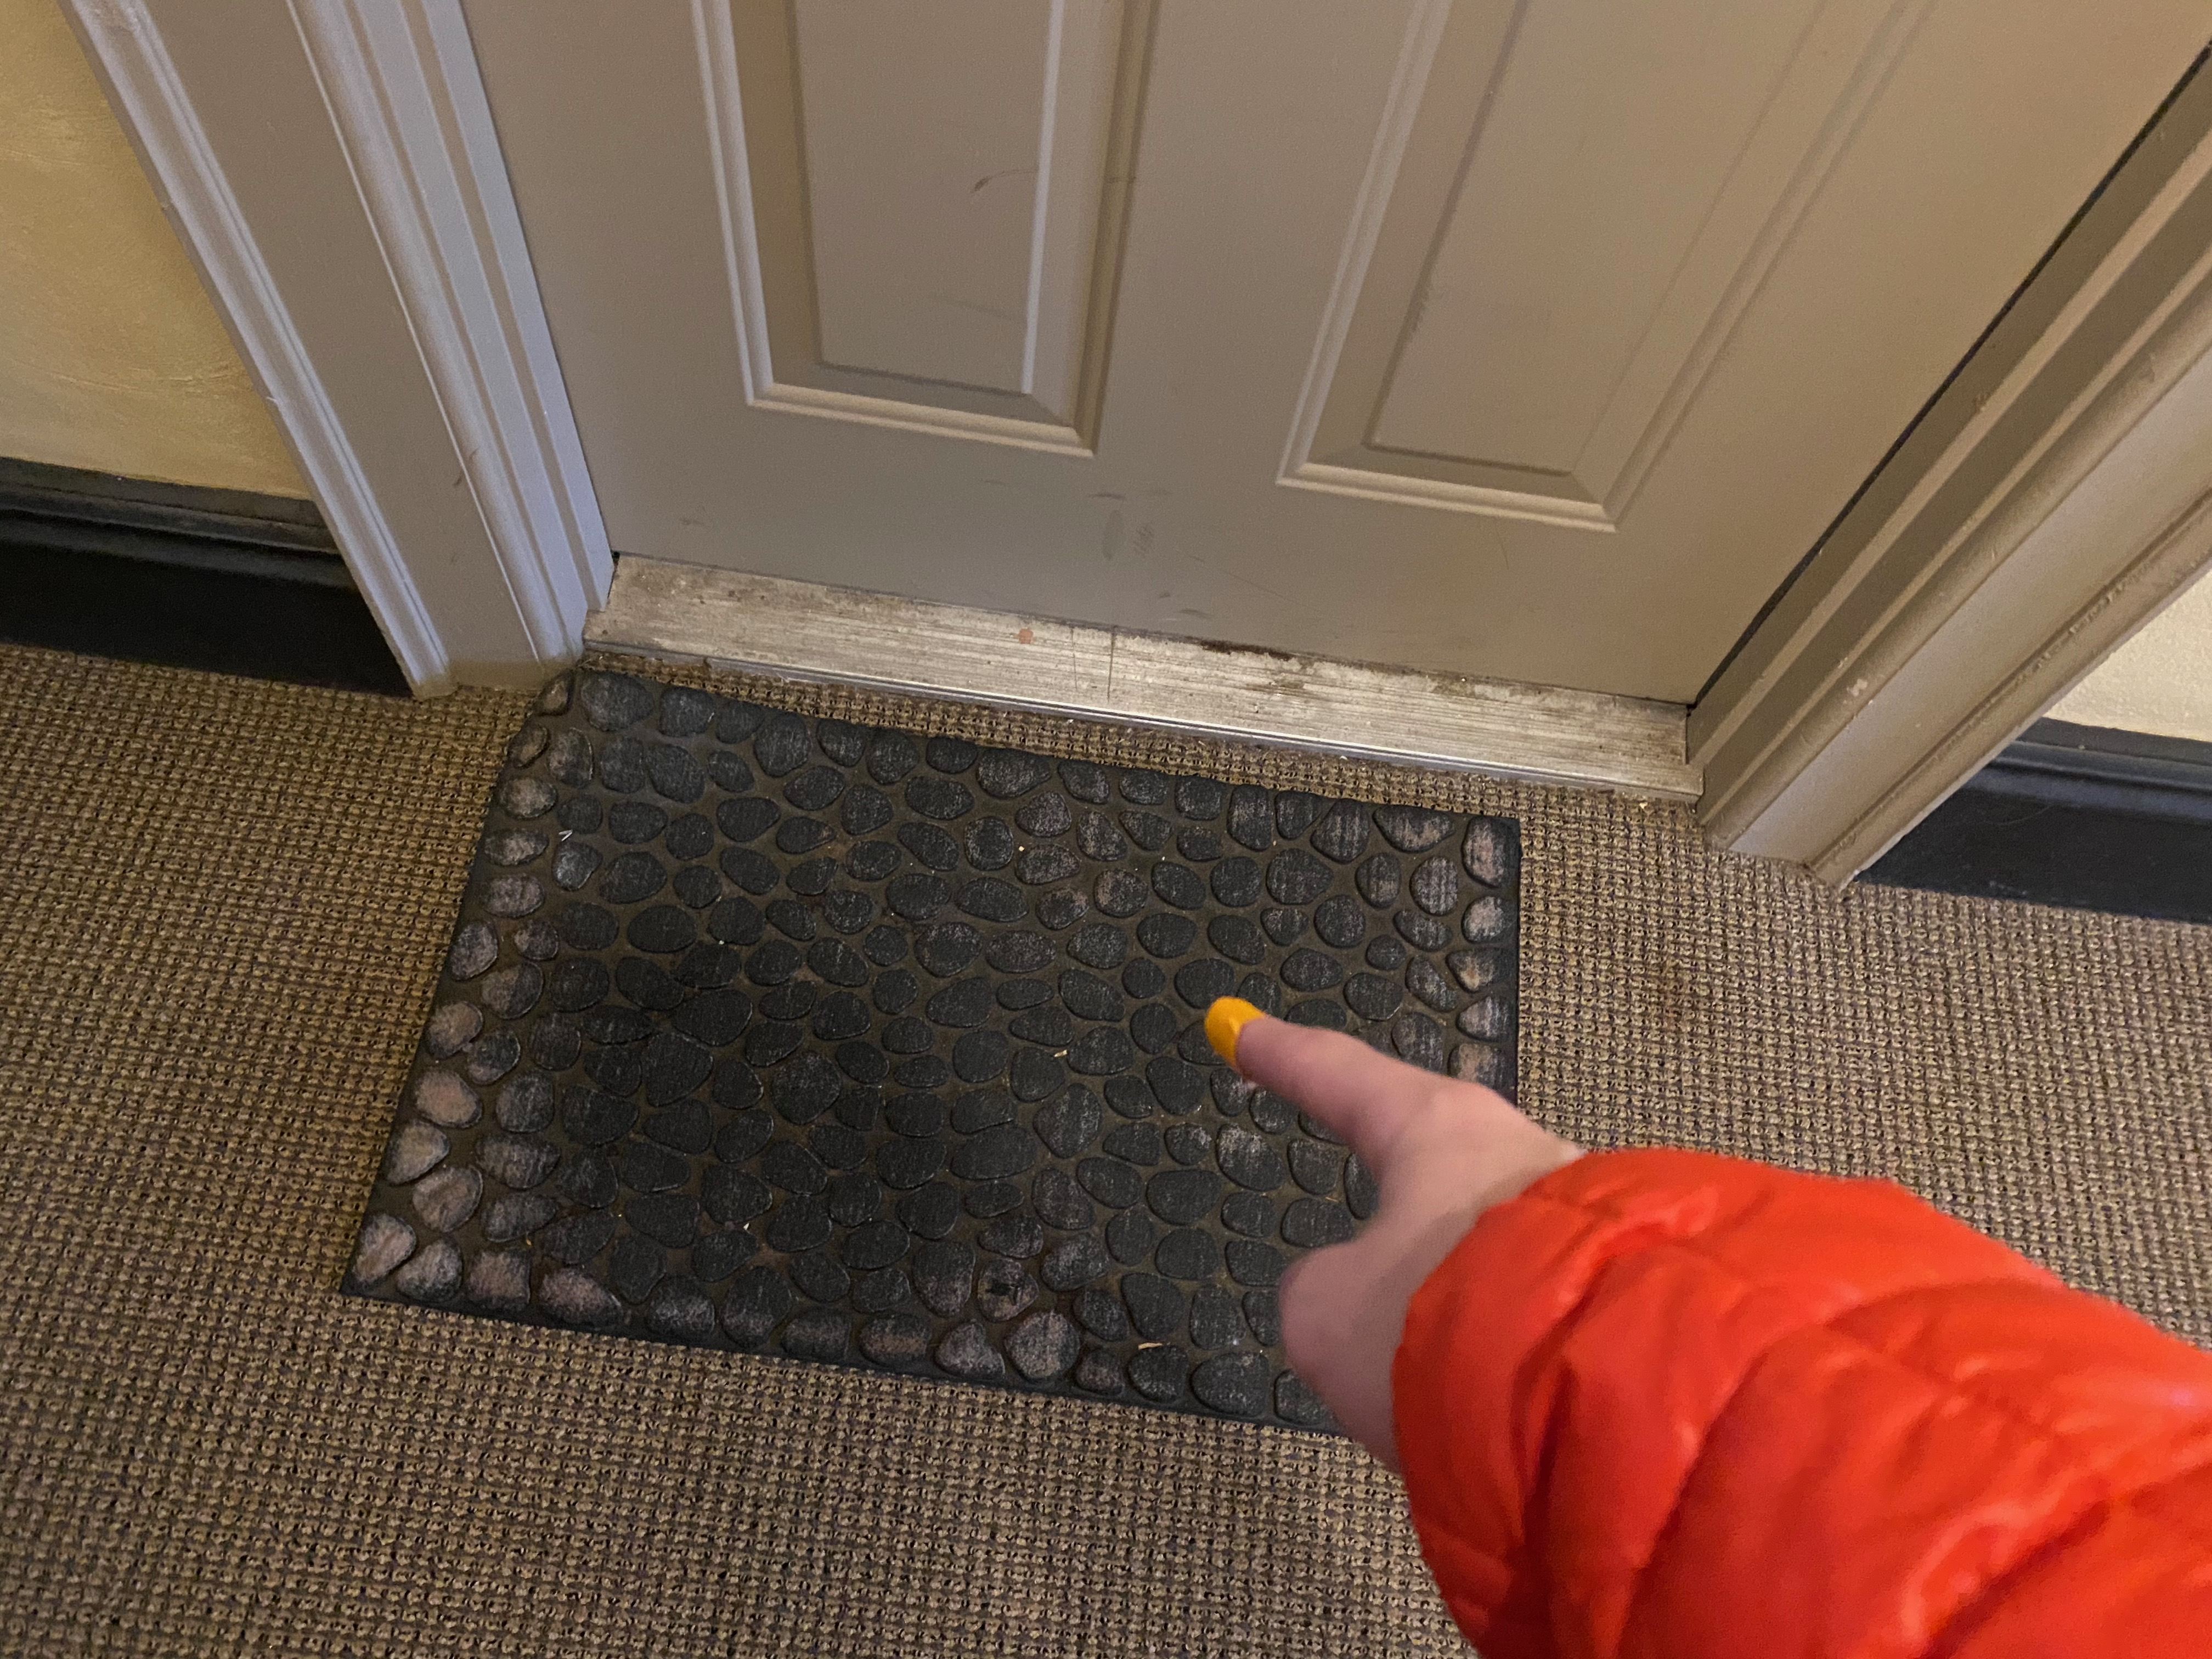fingertip: (1183, 979, 1301, 1077)
